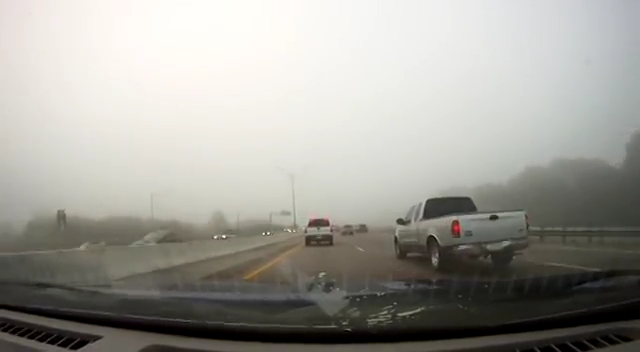car: (393, 195, 530, 268), (129, 228, 185, 257), (302, 217, 335, 246), (212, 231, 237, 243), (340, 224, 355, 235), (356, 223, 369, 233)
